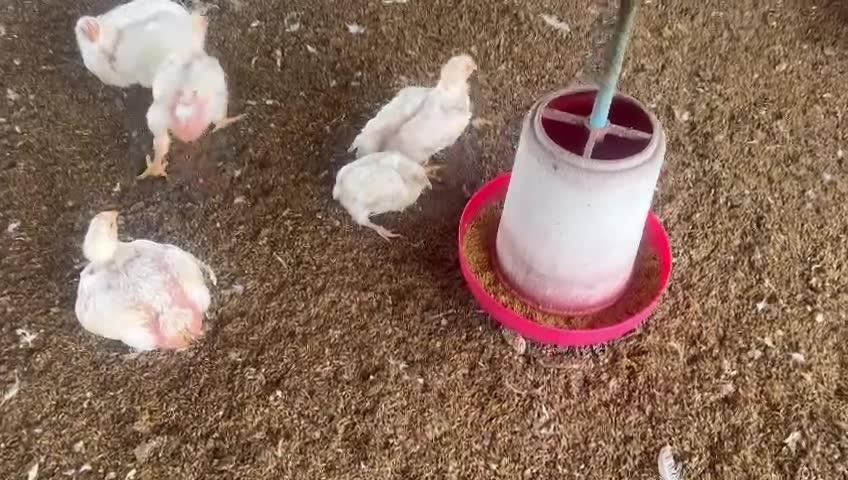AbNormal: (78, 208, 209, 351), (332, 151, 429, 243)
Normal: (137, 15, 242, 181), (349, 55, 482, 173)
